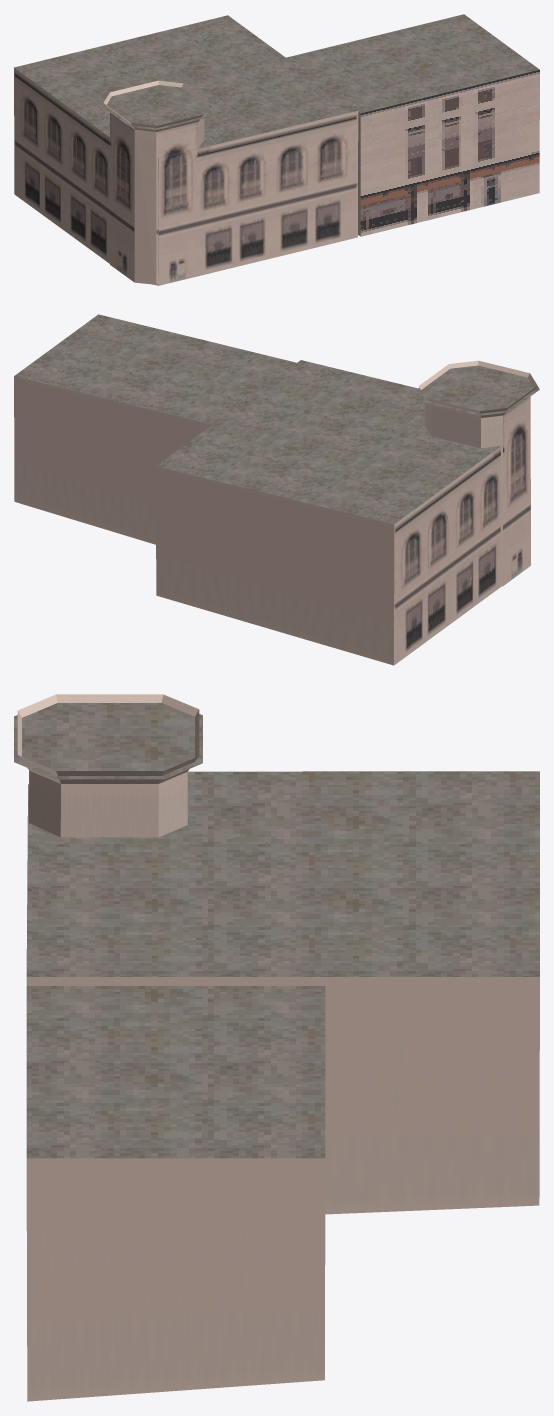
File: lodp03_law01.obj
The picture shows the model from 3 angles, top to bottom: view 1: azimuth 30°, elevation 25°; view 2: azimuth 150°, elevation 25°; view 3: azimuth 270°, elevation 25°; orthographic projection. The views are drawn at different scales.
Visible parts, largest first — view 1: LODp03_laW01; view 2: LODp03_laW01; view 3: LODp03_laW01.
Boxes of the visible parts, bbox=[...] form: LODp03_laW01: bbox=[14, 14, 539, 285]; LODp03_laW01: bbox=[14, 314, 539, 665]; LODp03_laW01: bbox=[14, 694, 539, 1401].
Bounding box in the file's own units: 50.07 × 19.34 × 28.7.
3 materials, 3 textured.
